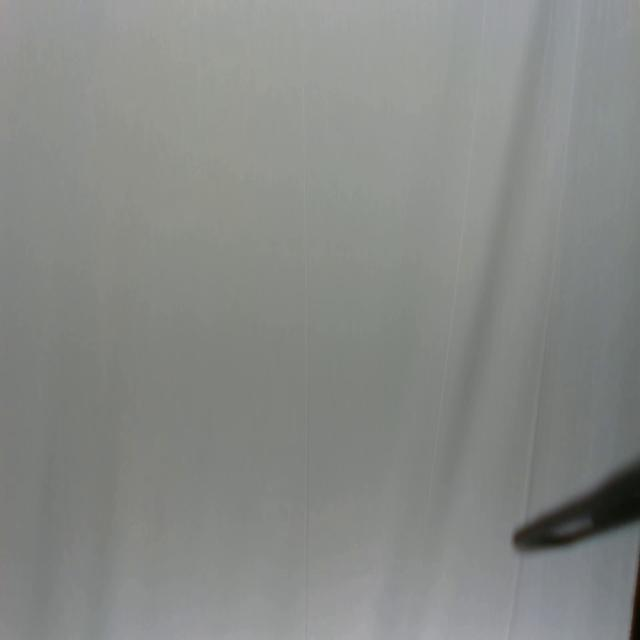crease: (427, 1, 488, 526), (520, 2, 584, 501), (301, 55, 311, 640), (506, 554, 526, 640)
